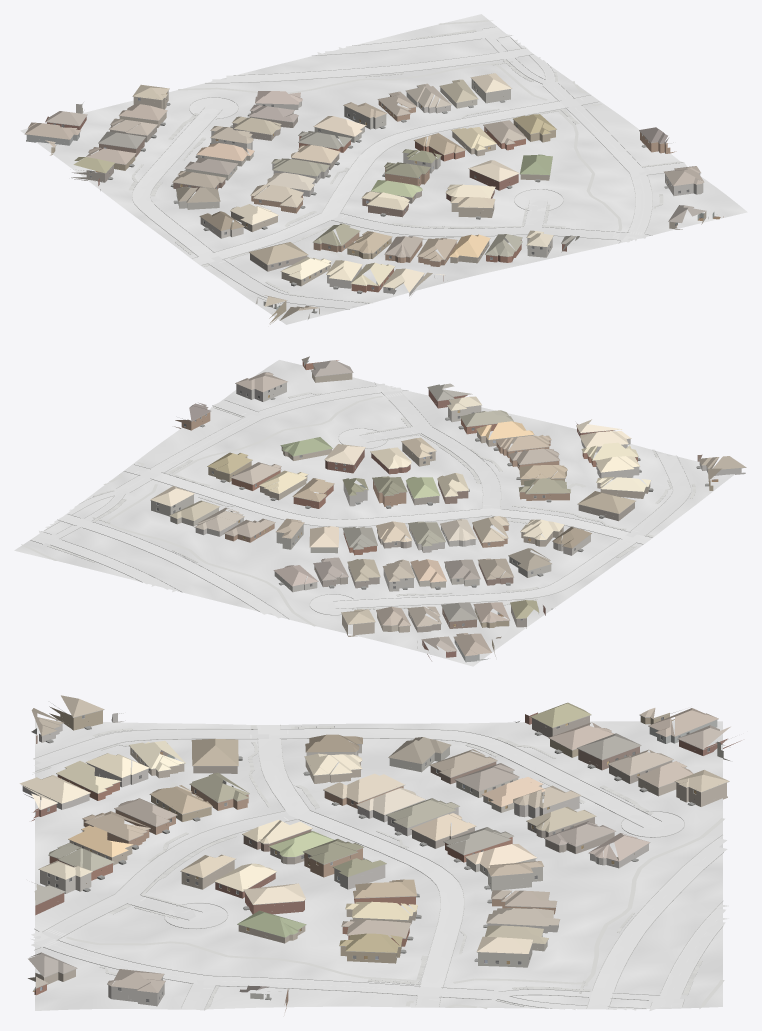
The picture shows the model from 3 angles, top to bottom: view 1: azimuth 30°, elevation 25°; view 2: azimuth 150°, elevation 25°; view 3: azimuth 270°, elevation 25°; orthographic projection. The views are drawn at different scales.
Visible parts, largest first — view 1: ground, roof, concrete, wall, asphalt, curb, walk, detail, wall_stucco, wall_stone, mark_w; view 2: ground, roof, concrete, wall, asphalt, curb, walk, detail, wall_stucco, wall_stone; view 3: ground, roof, concrete, wall, asphalt, curb, walk, detail, wall_stucco, wall_stone, mark_w, mark_y (+1 smaller).
Part boxes in pixels (x1,y1,x2,y2): ground: (20,14,747,324); roof: (25,73,706,320); concrete: (132,95,687,308); wall: (45,95,723,324); asphalt: (212,27,652,242); curb: (132,26,683,309); walk: (129,20,682,303); detail: (25,78,717,314); wall_stucco: (26,79,552,257); wall_stone: (211,87,703,314); mark_w: (197,30,651,263); ground: (14,360,734,666); roof: (150,356,746,656); concrete: (124,383,690,614); wall: (174,360,713,660); asphalt: (31,385,401,618); curb: (30,382,694,618); walk: (21,392,695,626); detail: (150,359,746,656); wall_stucco: (151,402,590,662); wall_stone: (195,382,745,592); ground: (35,720,722,1010); roof: (19,695,730,992); concrete: (30,725,684,1010); wall: (28,706,741,1011); asphalt: (31,838,728,1010); curb: (32,724,723,1010); walk: (32,725,724,1009); detail: (30,704,735,1003); wall_stucco: (40,720,729,967); wall_stone: (22,713,648,1006); mark_w: (35,729,723,1008); mark_y: (54,852,722,1008).
Size of the model in its own units: 265 by 12.5 by 267.
